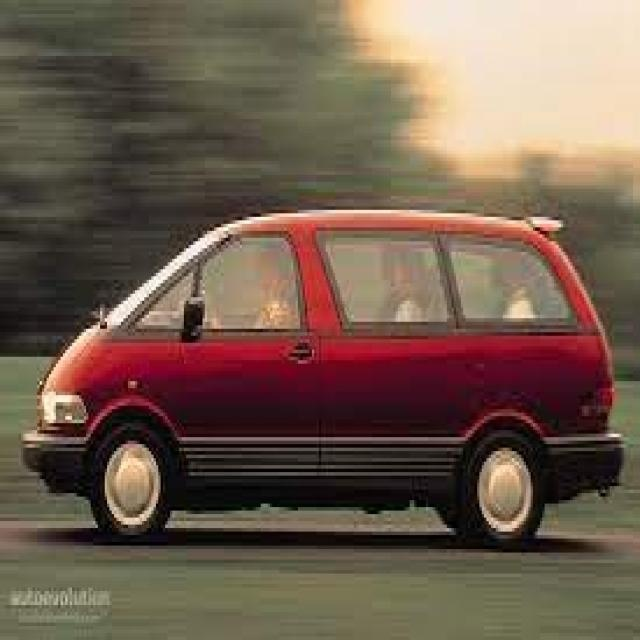Van: (42, 213, 617, 549)
